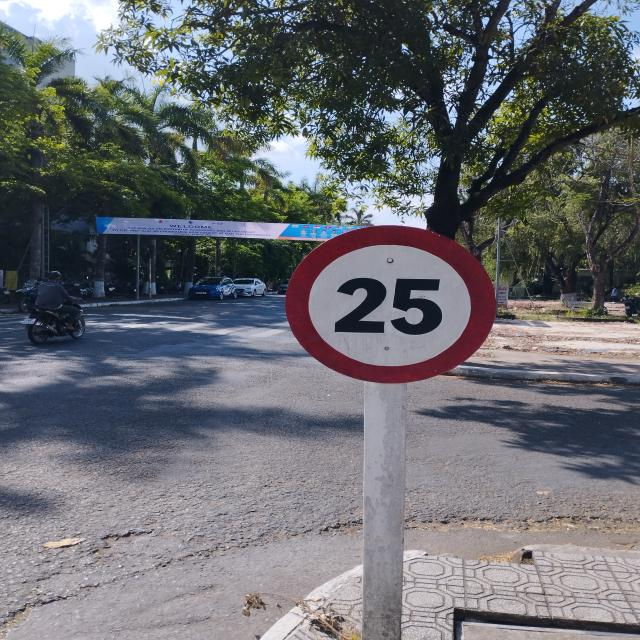Tre_Em: (284, 222, 499, 384)
